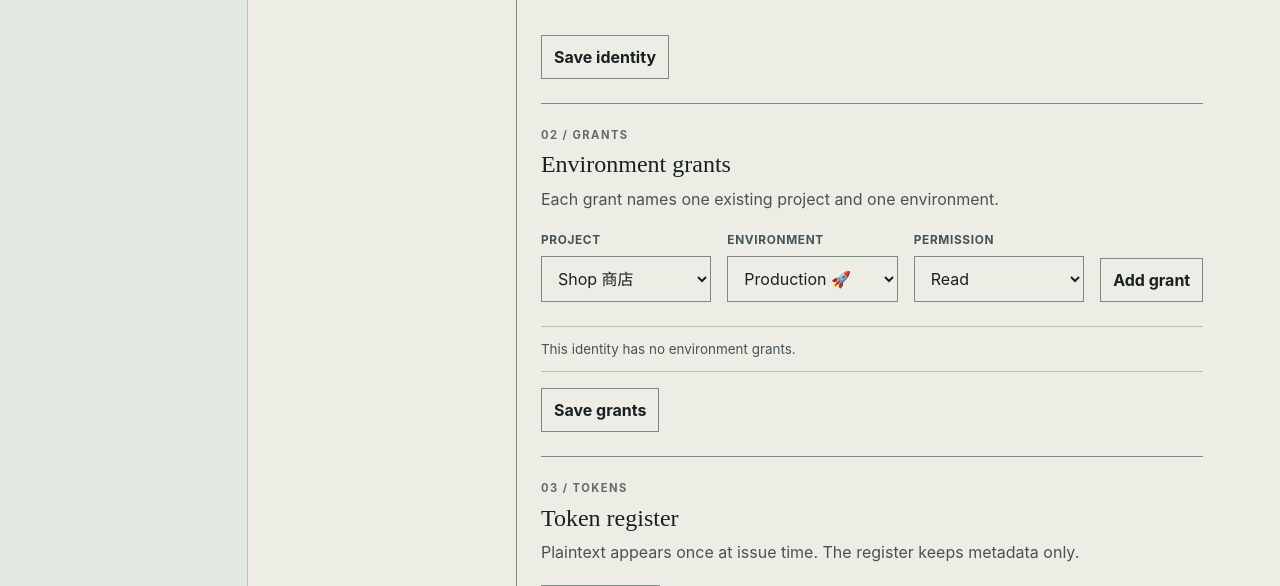
MachineAccessPage › submits explicit project and environment grants by their existing IDs
The width and height of the screenshot is (1280, 586).
(page scrolled)
Select "Shop 商店" in the dropdown labelled "Project": (626, 279) [541,256,711,302]
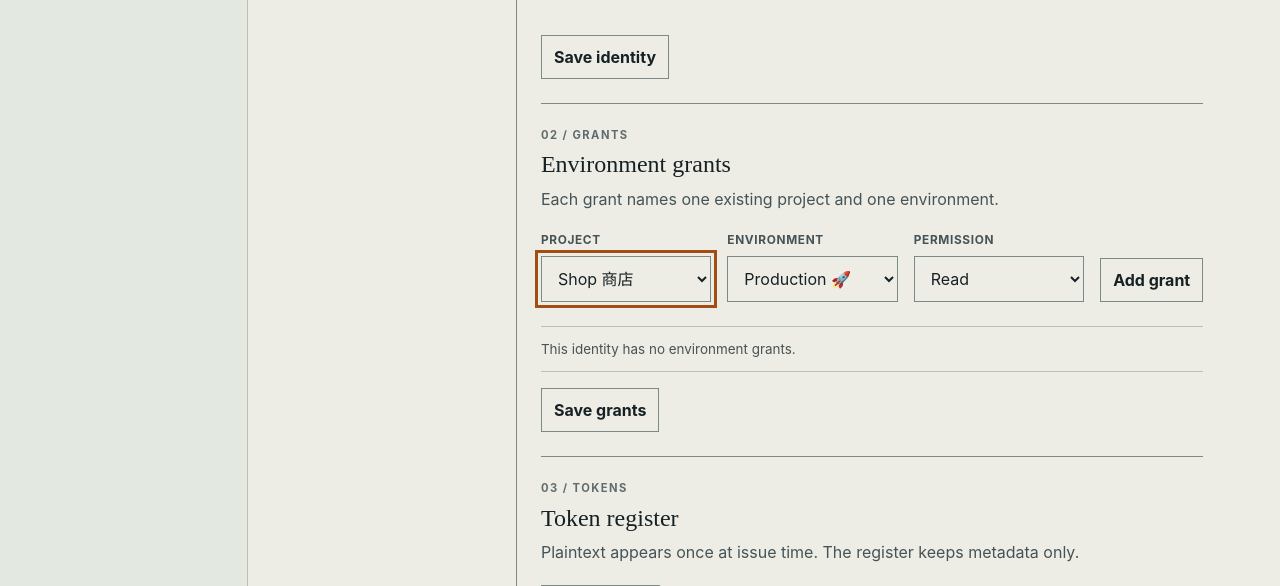
Select "Production 🚀" in the dropdown labelled "Environment": (812, 279) [727,256,898,302]
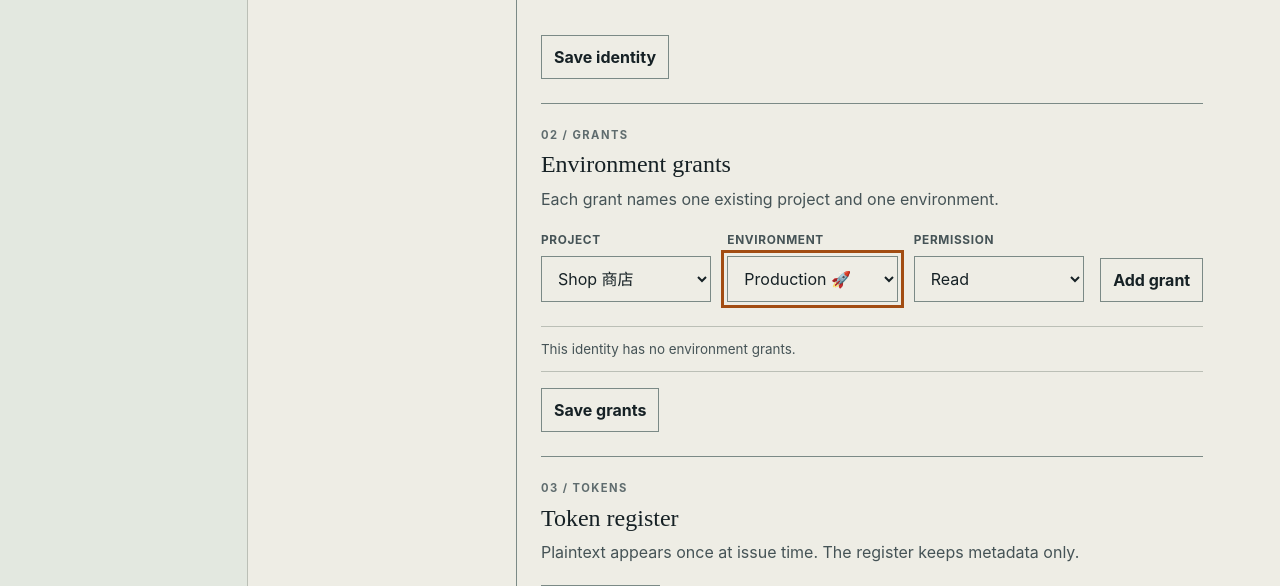
Select "Read and write" in the dropdown labelled "Permission": (999, 279) [914,256,1084,302]
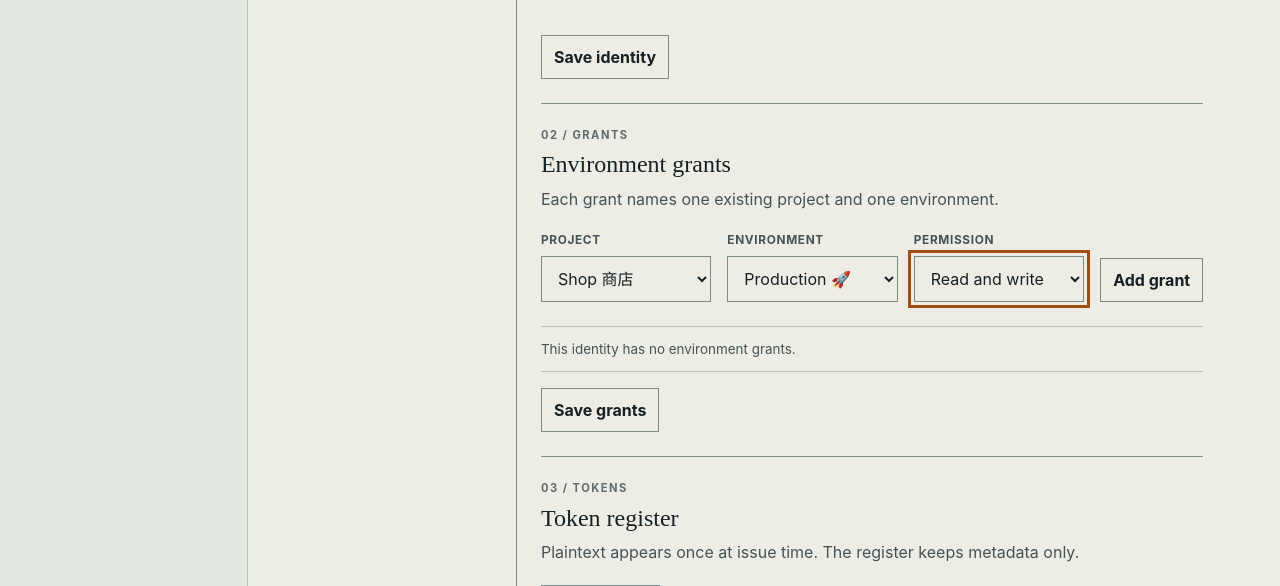
Click the button "Add grant": (1152, 280) [1100,258,1203,302]
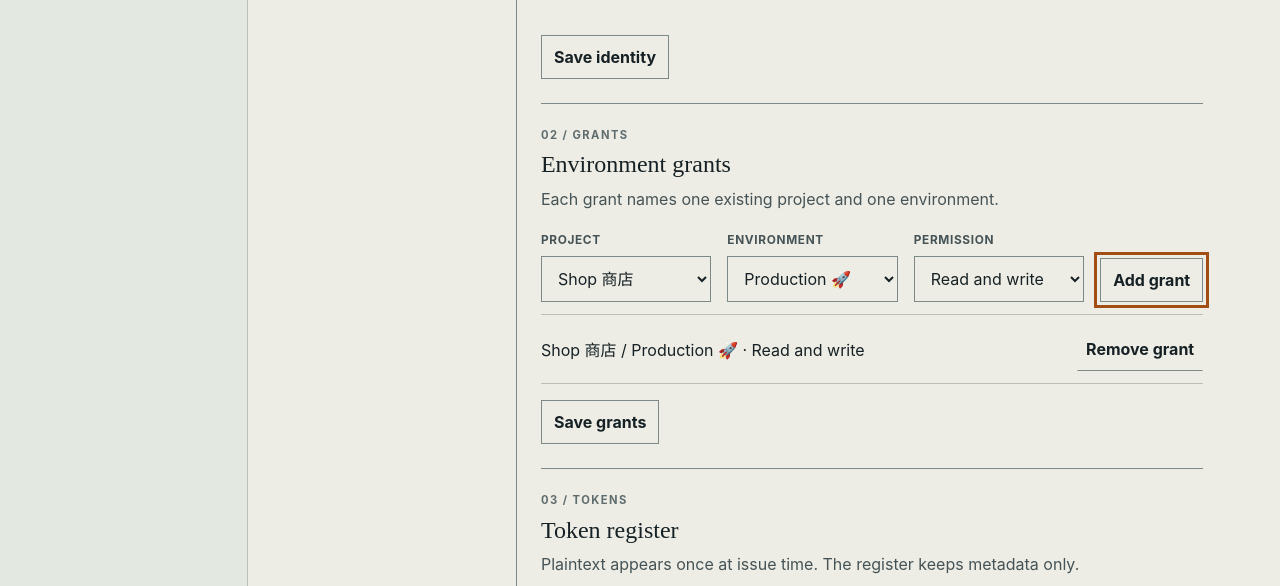
Check: the text "Shop 商店 / Production 🚀 · Read and write" is shown, box [541,337,865,361]
Click the button "Save grants": (600, 422) [541,400,659,444]
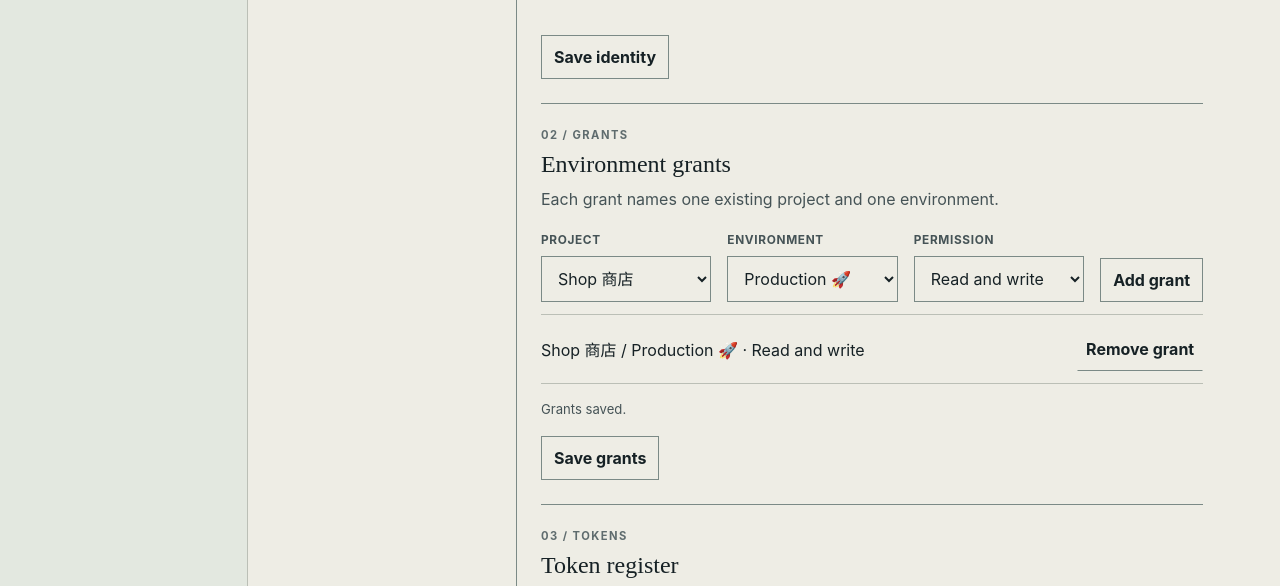
Check: the message shows "Grants saved", box [541,401,626,417]
